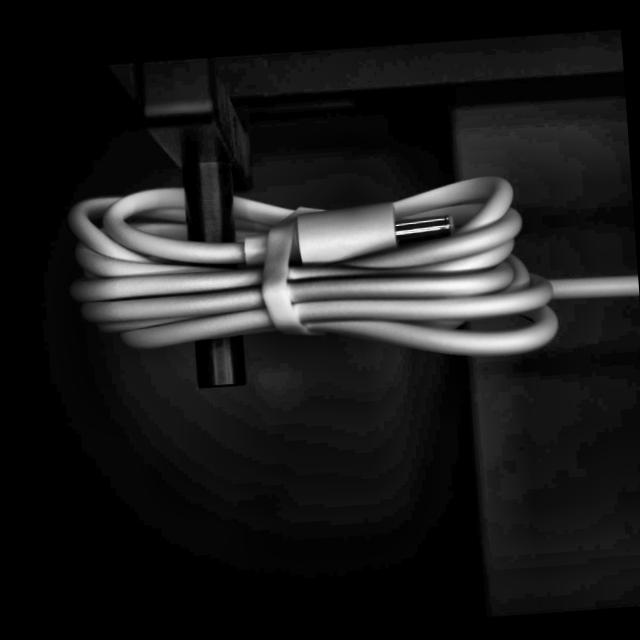Cable: (56, 152, 640, 391)
